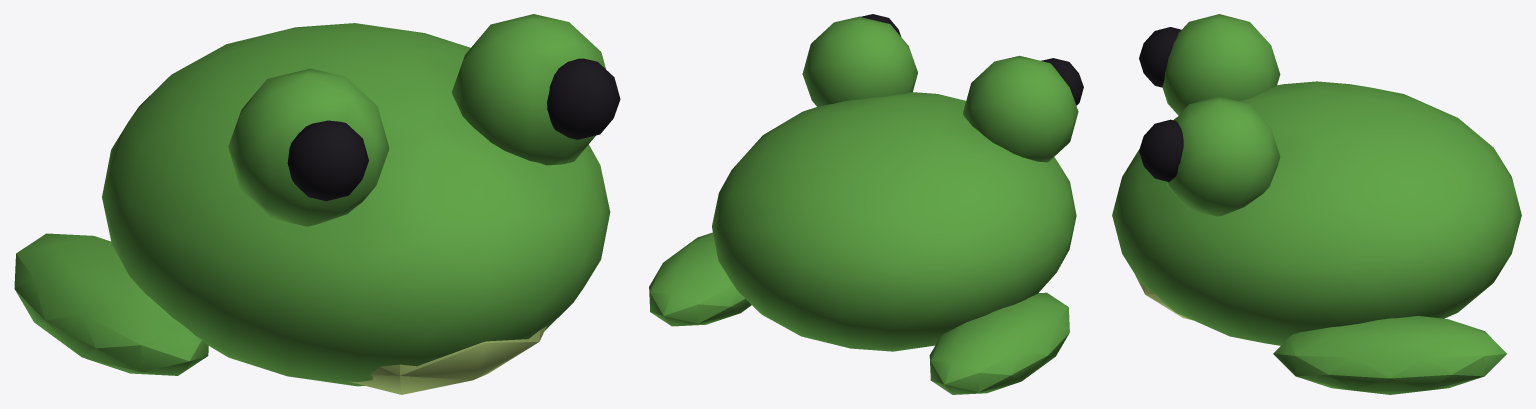
File: frog.glb
3 views of the same model, side by side, from view 1: azimuth 30°, elevation 25°; view 2: azimuth 150°, elevation 25°; view 3: azimuth 270°, elevation 25° (orthographic). The views are drawn at different scales.
Visible parts, largest first — view 1: frog; view 2: frog; view 3: frog.
Boxes of the visible parts, x1,y1,x2,y2 form: frog: [14, 14, 620, 394]; frog: [649, 14, 1083, 394]; frog: [1112, 14, 1521, 394].
Size of the model in its own units: 0.188 by 0.119 by 0.168.
